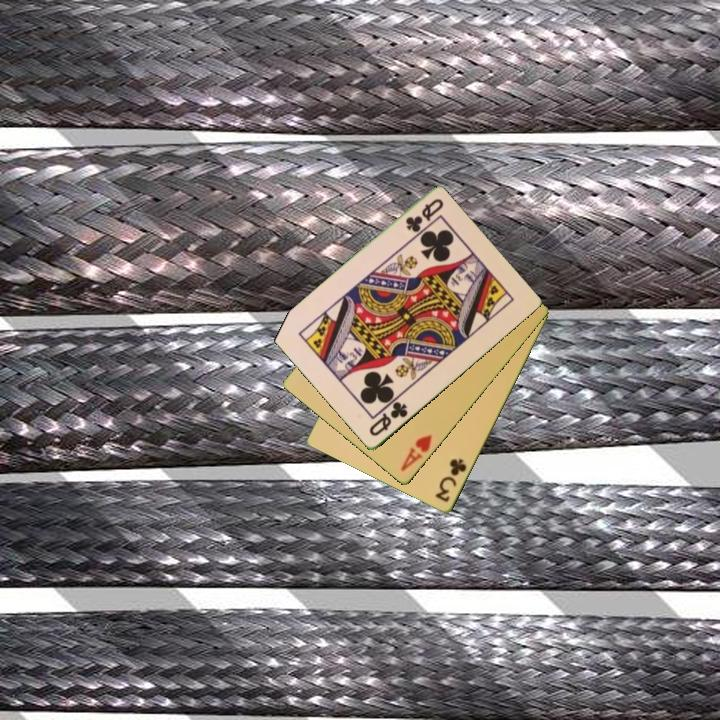3c: (432, 455, 470, 506)
Ah: (397, 431, 435, 475)
Qc: (366, 398, 411, 439), (402, 195, 447, 236)
